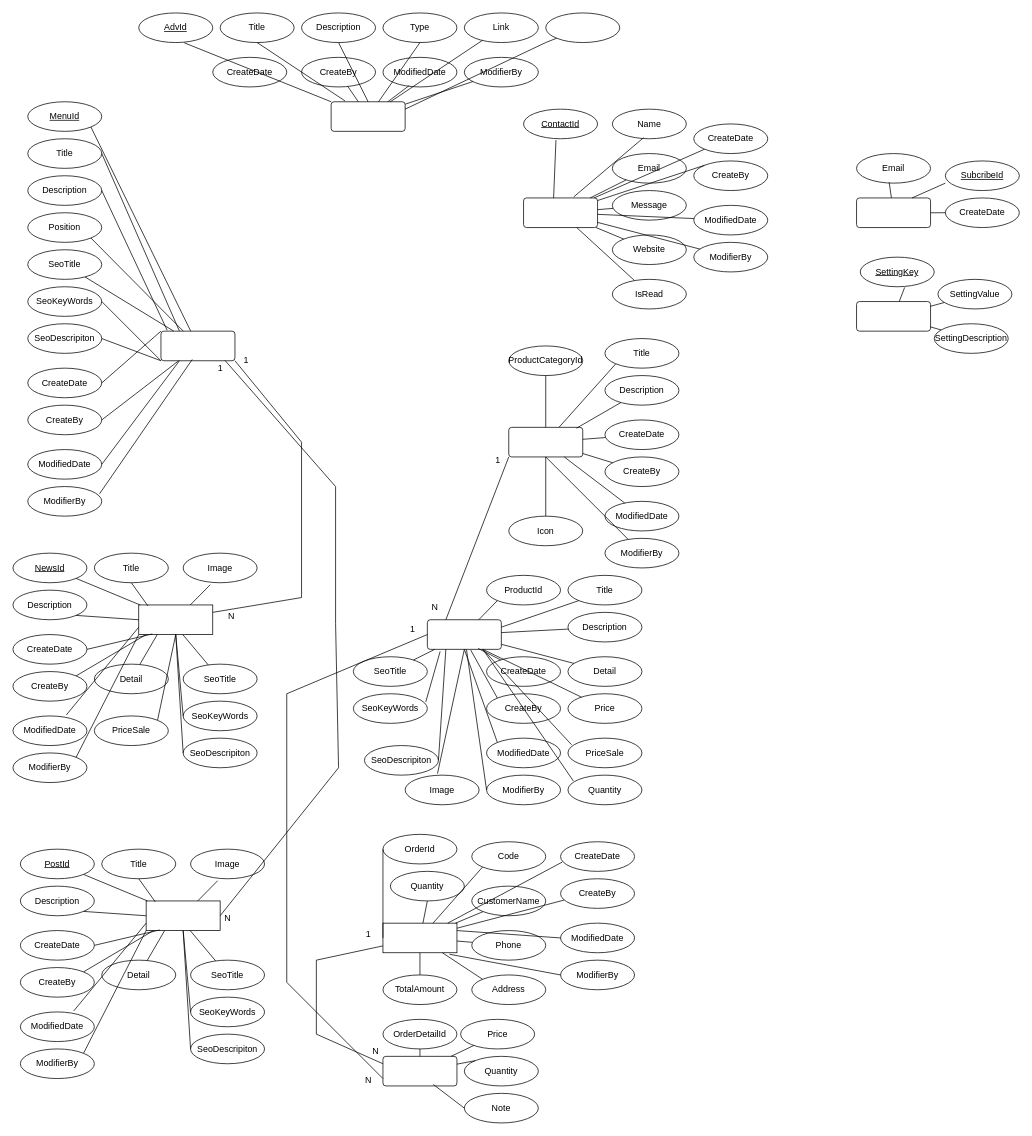
The diagram is 1032 pixels wide and 1136 high, and some of its shapes have lost their labels. Here are the shapes that lost their labels. From the top down, the centre of each, then its label:
point 582,27: Imange
point 367,116: Advertisement
point 560,212: Contact
point 893,212: Subcribe
point 893,316: Setting
point 197,345: Category
point 545,442: ProductCategory
point 175,619: News
point 464,634: Product
point 182,915: Post
point 419,937: Order
point 419,1071: OrderDetail
